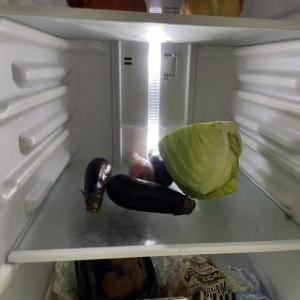cabbage: (158, 119, 246, 199)
carrot: (68, 1, 148, 14), (128, 150, 154, 184)
eggplant: (110, 173, 196, 218), (85, 156, 111, 212)
onion: (180, 0, 242, 20)
